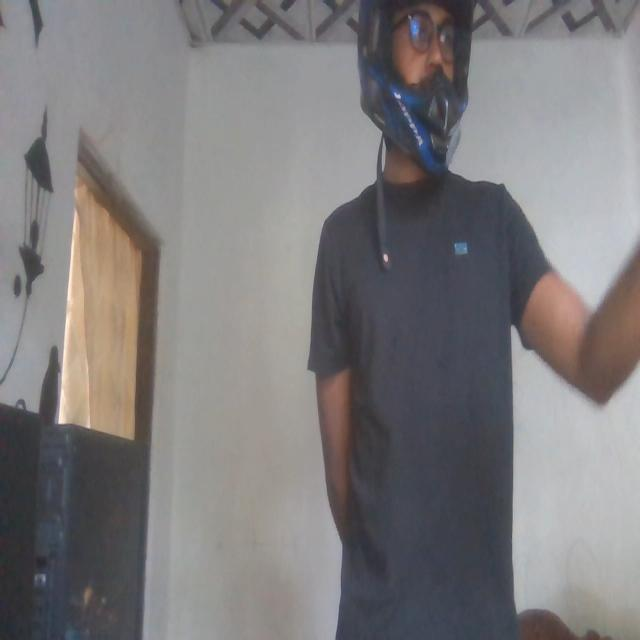Helmet_Wearer: (339, 0, 478, 185)
Person: (317, 0, 600, 640)
